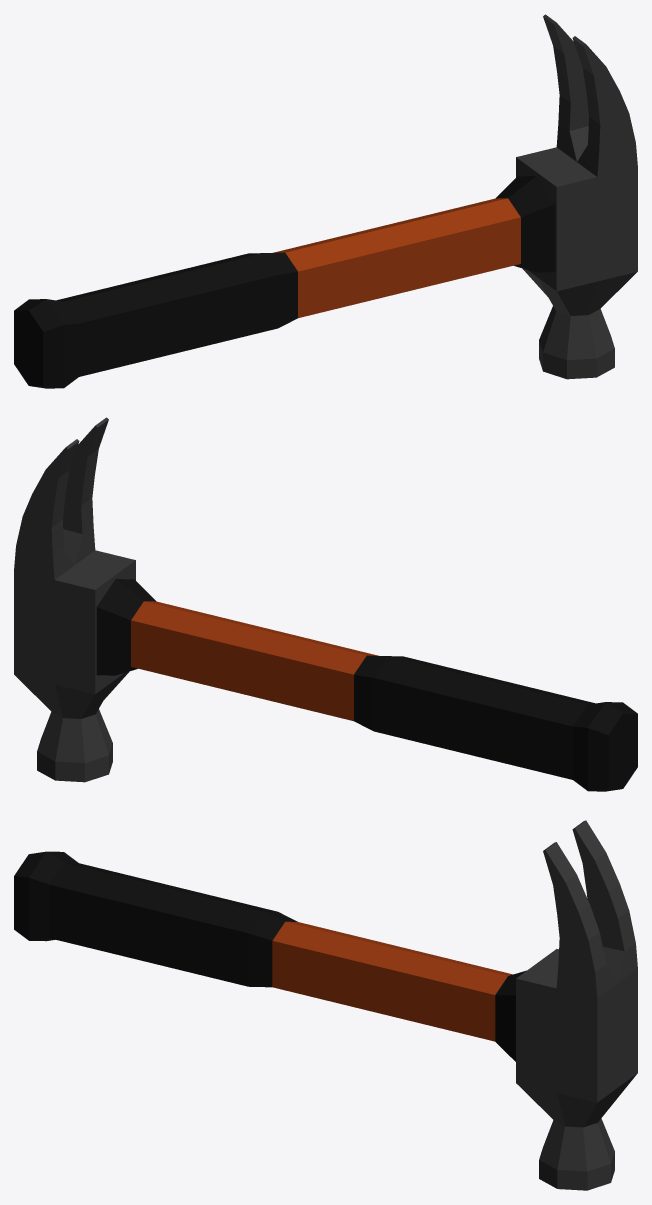
File: hammer.glb
3 renders of one model, top to bottom at view 1: azimuth 30°, elevation 25°; view 2: azimuth 150°, elevation 25°; view 3: azimuth 330°, elevation 25°, orthographic.
Parts seen in each view (by area): view 1: hammer; view 2: hammer; view 3: hammer.
Boxes of the visible parts, x1,y1,x2,y2 form: hammer: [14, 14, 637, 388]; hammer: [14, 417, 637, 791]; hammer: [14, 820, 637, 1190].
Bounding box in the file's own units: 0.3673 × 0.2007 × 0.044.
Materials: 1 (1 with a texture image).
